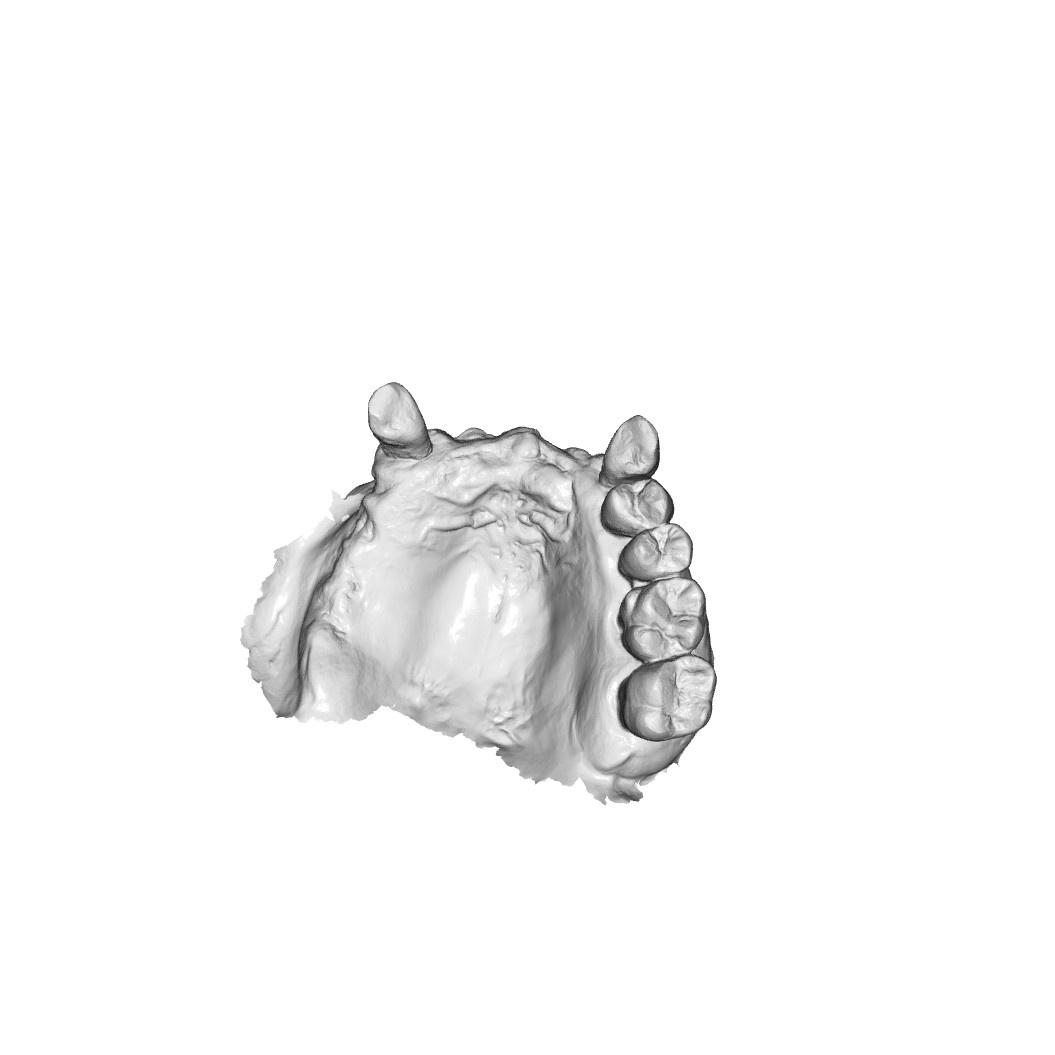canine: (366, 379, 430, 450), (605, 414, 663, 474)
molar: (621, 656, 716, 739), (619, 574, 709, 657)
premolar: (603, 477, 673, 531), (624, 523, 691, 578)
